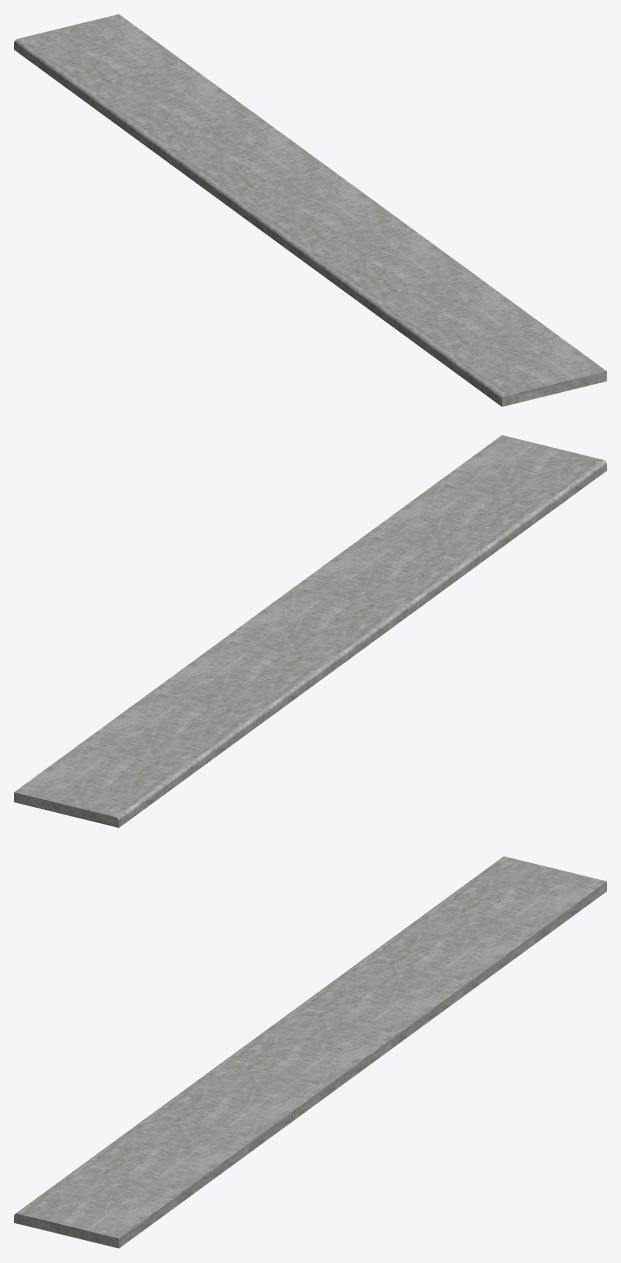
Rendered from sidewalk.obj.
The picture shows the model from 3 angles, top to bottom: view 1: azimuth 30°, elevation 25°; view 2: azimuth 150°, elevation 25°; view 3: azimuth 330°, elevation 25°; orthographic projection.
Parts seen in each view (by area): view 1: Cube; view 2: Cube; view 3: Cube.
Boxes of the visible parts, x1,y1,x2,y2 form: Cube: (14,14,606,406); Cube: (14,435,606,827); Cube: (14,856,606,1248).
Size of the model in its own units: 4.01 by 0.3632 by 32.28.
1 material, 1 textured.
